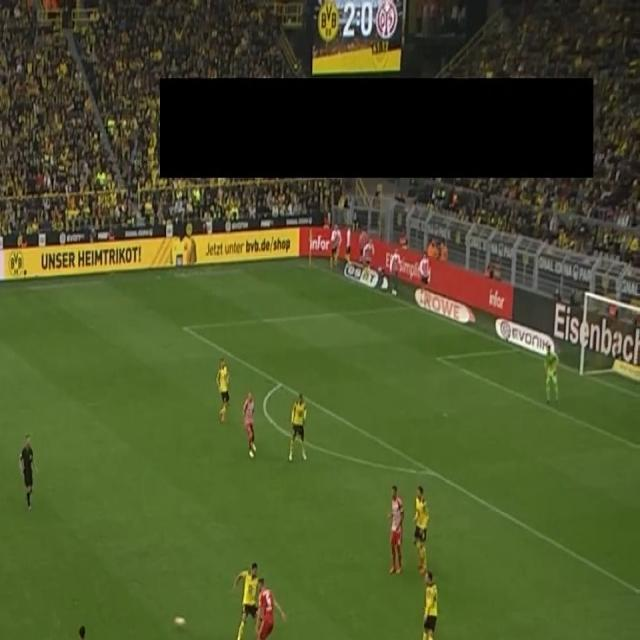ball: (172, 613, 186, 633)
